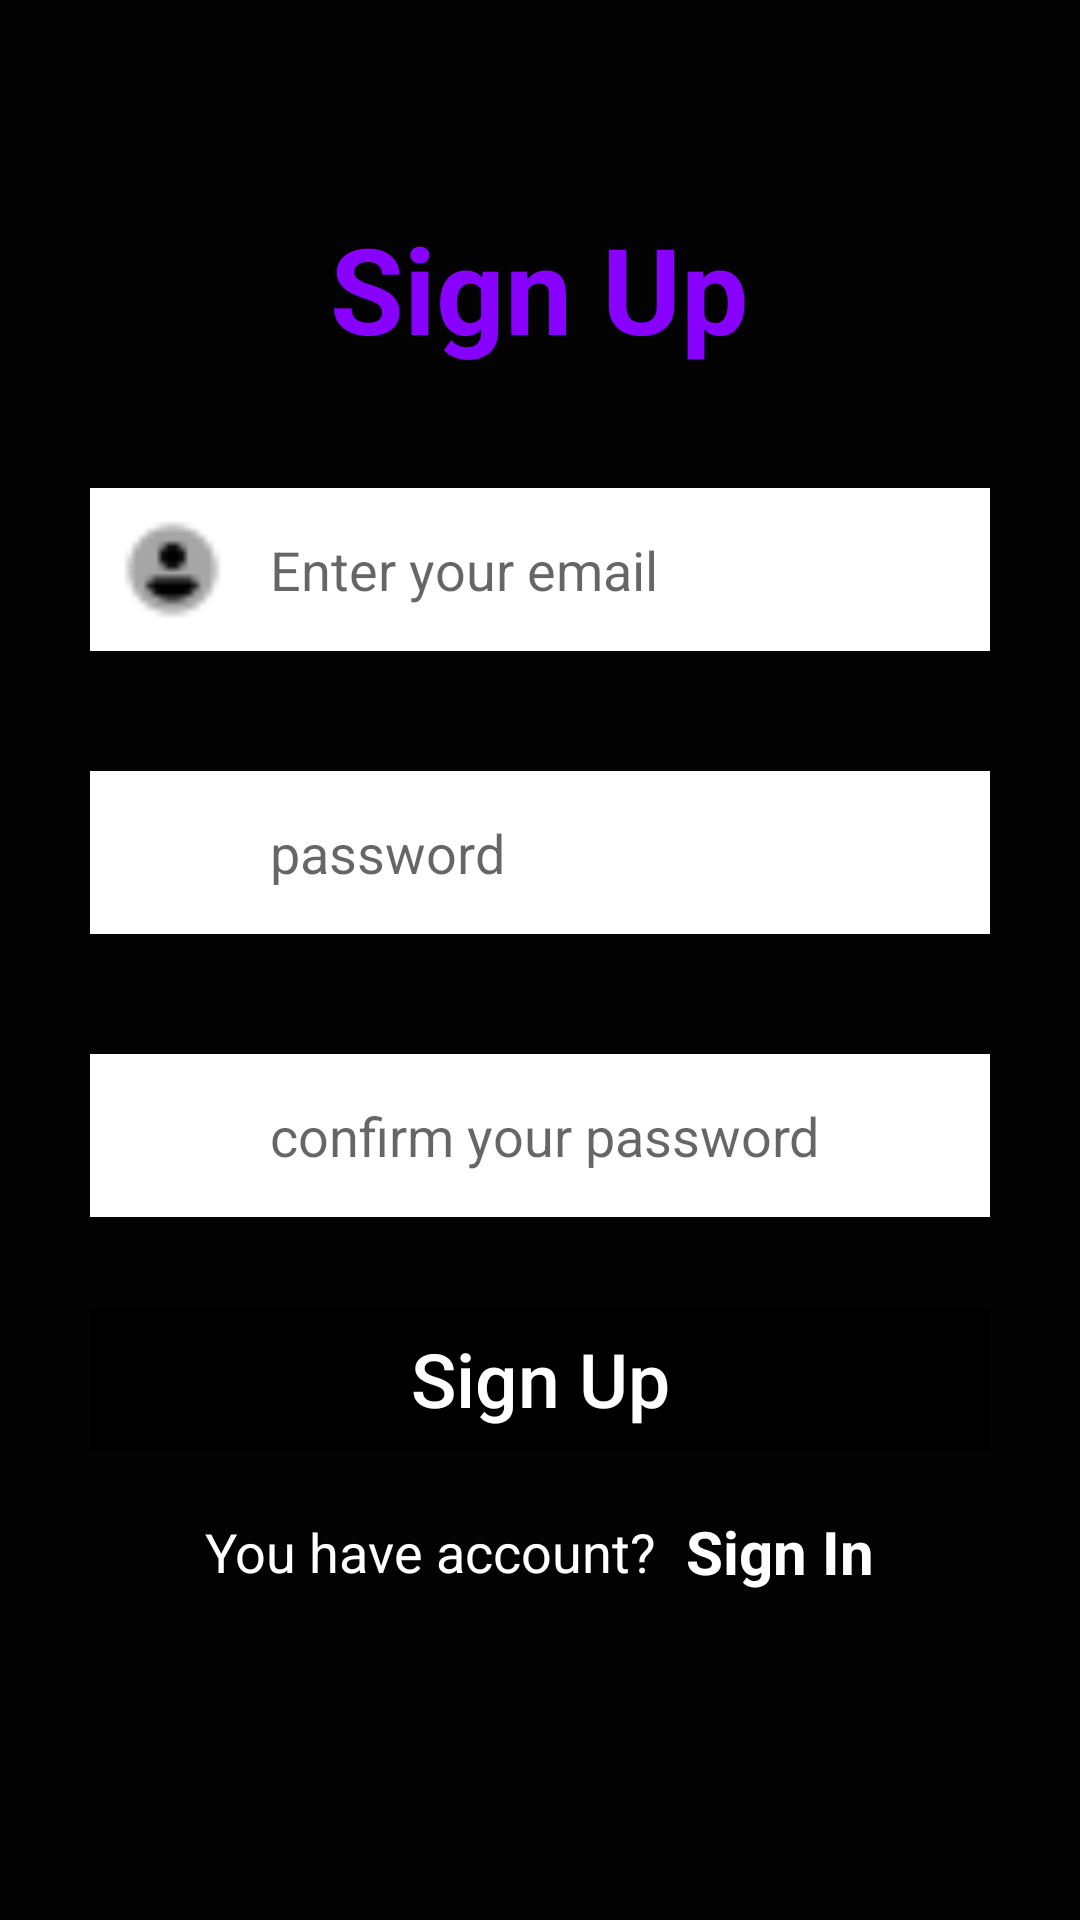

Icons on this 1080w x 1920h Android screen, each with the point to tap as [x,y]:
user: [172,569]
